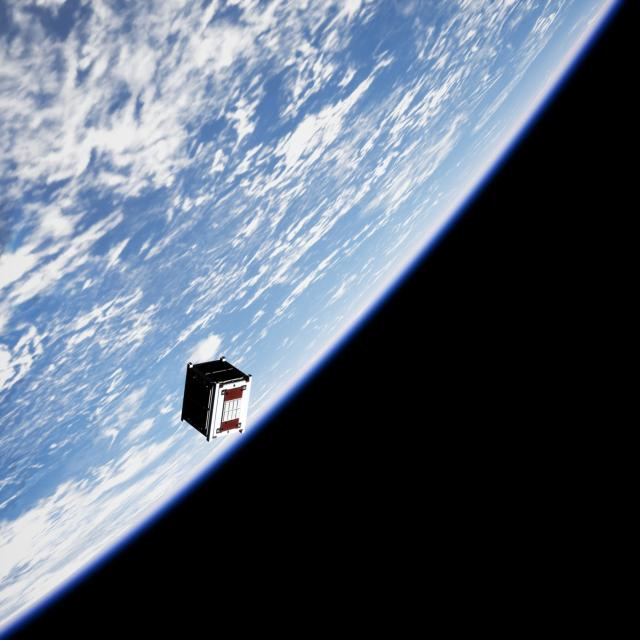medium_debris: (182, 356, 254, 436)
